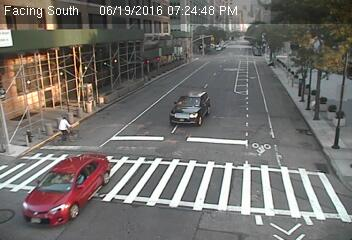neg: (55, 114, 77, 144), (81, 156, 103, 185), (221, 98, 243, 127), (262, 137, 281, 162), (294, 79, 313, 104), (231, 171, 250, 196), (249, 48, 268, 72), (159, 52, 177, 76), (173, 176, 191, 200), (48, 63, 66, 87), (323, 123, 340, 146), (92, 46, 109, 68), (189, 95, 205, 117), (141, 117, 157, 138)
